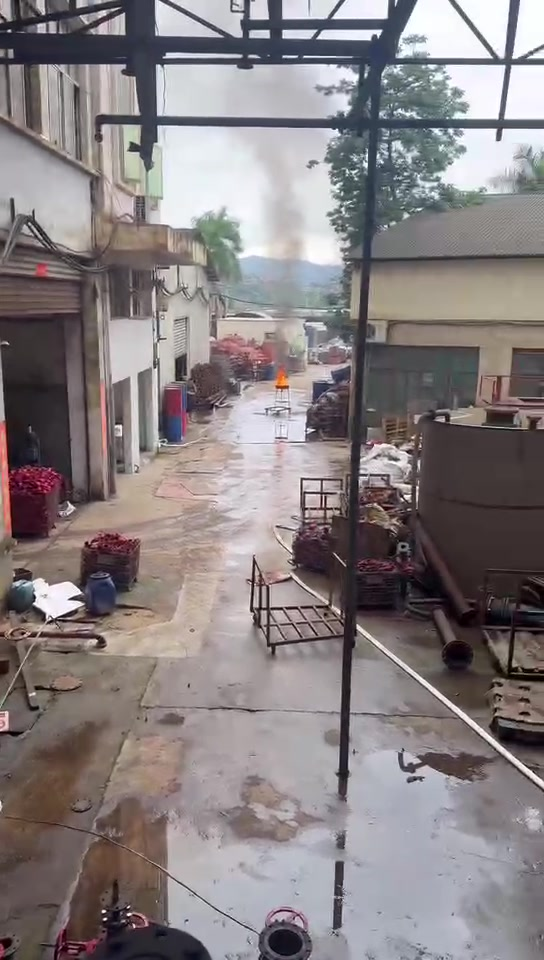fire: (275, 367, 288, 385)
